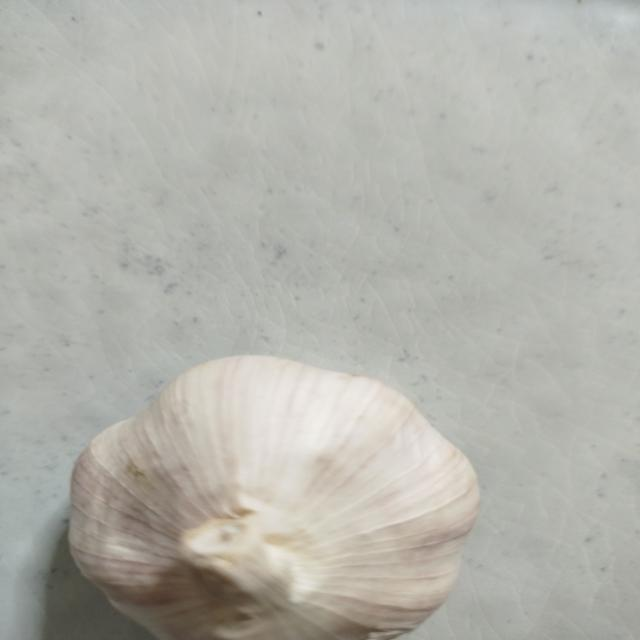garlic: (67, 353, 480, 640)
